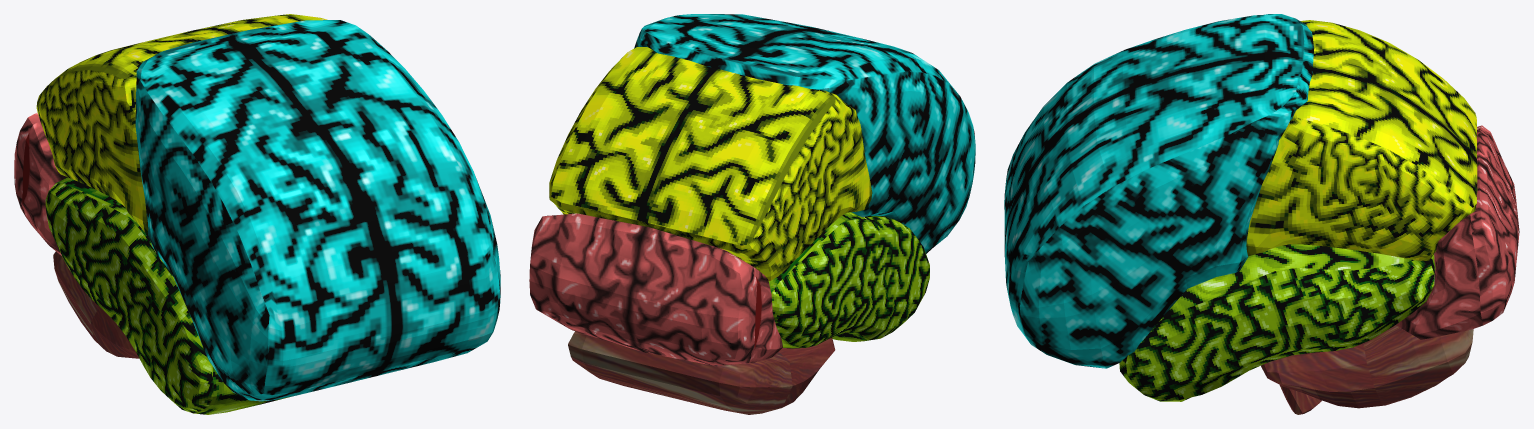
Rendered from cerebro.player.fbx.
3 renders of one model, left to right at view 1: azimuth 30°, elevation 25°; view 2: azimuth 150°, elevation 25°; view 3: azimuth 270°, elevation 25°, orthographic. The views are drawn at different scales.
Visible parts, largest first — view 1: frontal.001, Temporal.001, parietal.001, Occipital.001, Cerebelo.001; view 2: parietal.001, frontal.001, Occipital.001, Temporal.001, Cerebelo.001; view 3: frontal.001, parietal.001, Temporal.001, Occipital.001, Cerebelo.001.
Part boxes in pixels (x1=…): frontal.001: x1=135, y1=20, x2=500, y2=401; Temporal.001: x1=45, y1=177, x2=289, y2=414; parietal.001: x1=36, y1=14, x2=327, y2=234; Occipital.001: x1=14, y1=112, x2=67, y2=255; Cerebelo.001: x1=53, y1=251, x2=139, y2=358; parietal.001: x1=549, y1=47, x2=872, y2=280; frontal.001: x1=634, y1=14, x2=975, y2=253; Occipital.001: x1=529, y1=213, x2=782, y2=366; Temporal.001: x1=768, y1=212, x2=929, y2=348; Cerebelo.001: x1=568, y1=331, x2=835, y2=414; frontal.001: x1=1004, y1=14, x2=1314, y2=368; parietal.001: x1=1246, y1=20, x2=1477, y2=260; Temporal.001: x1=1119, y1=244, x2=1435, y2=401; Occipital.001: x1=1396, y1=125, x2=1519, y2=339; Cerebelo.001: x1=1261, y1=325, x2=1473, y2=414.
Bounding box in the file's own units: 267 × 336 × 449.
Materials: 5 (5 with a texture image).
